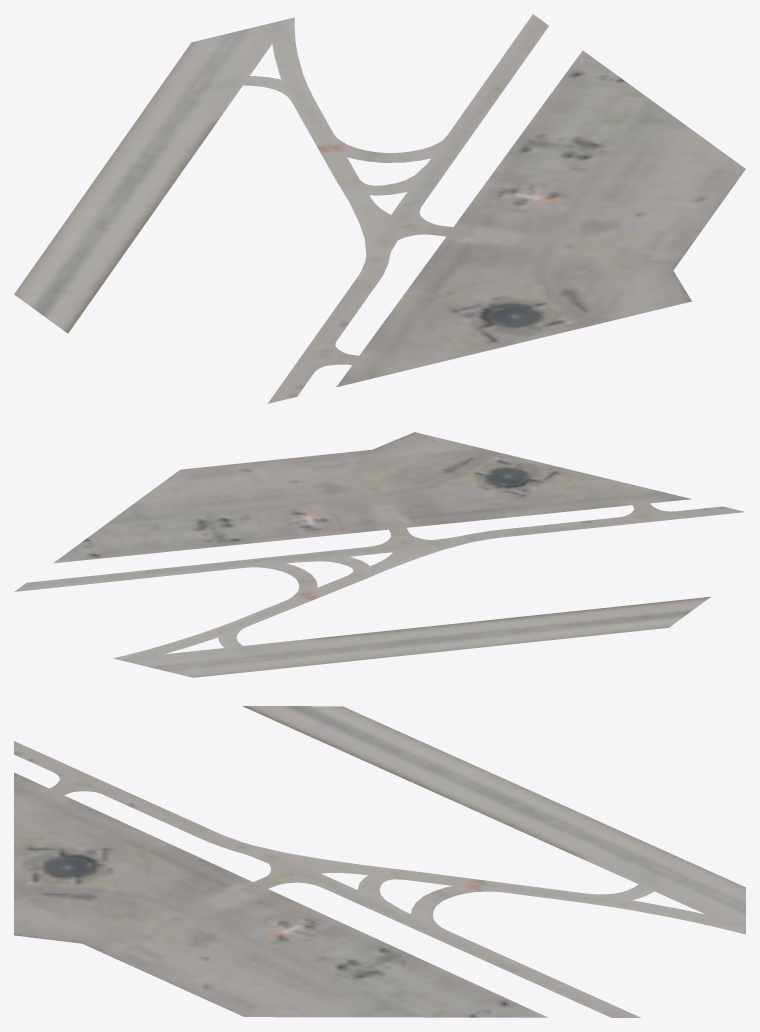
Rendered from LSGG_-1_-1.glb.
3 views of the same model, one above another, from view 1: azimuth 30°, elevation 25°; view 2: azimuth 150°, elevation 25°; view 3: azimuth 270°, elevation 25° (orthographic). The views are drawn at different scales.
Visible parts, largest first — view 1: pavement_LSGG_pavement_4994_2242; view 2: pavement_LSGG_pavement_4994_2242; view 3: pavement_LSGG_pavement_4994_2242.
Boxes of the visible parts, x1=… form: pavement_LSGG_pavement_4994_2242: x1=14, y1=14, x2=745, y2=403; pavement_LSGG_pavement_4994_2242: x1=14, y1=432, x2=744, y2=677; pavement_LSGG_pavement_4994_2242: x1=14, y1=706, x2=745, y2=1017.
Bounding box in the file's own units: 500 × 2.22 × 500.
Materials: 1 (1 with a texture image).
